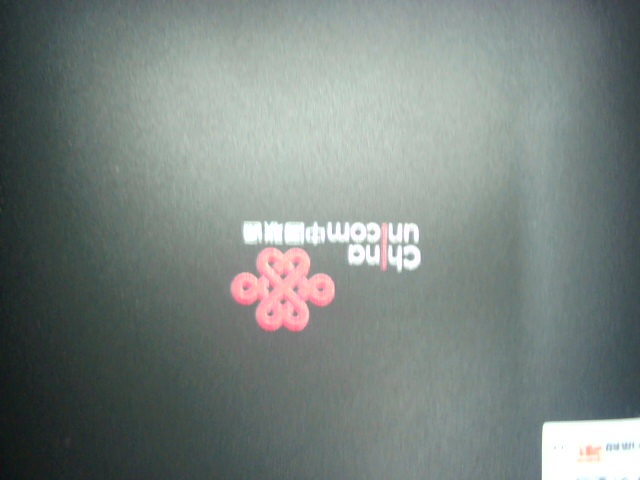AC_ChinaUnicom: (208, 205, 423, 333)
